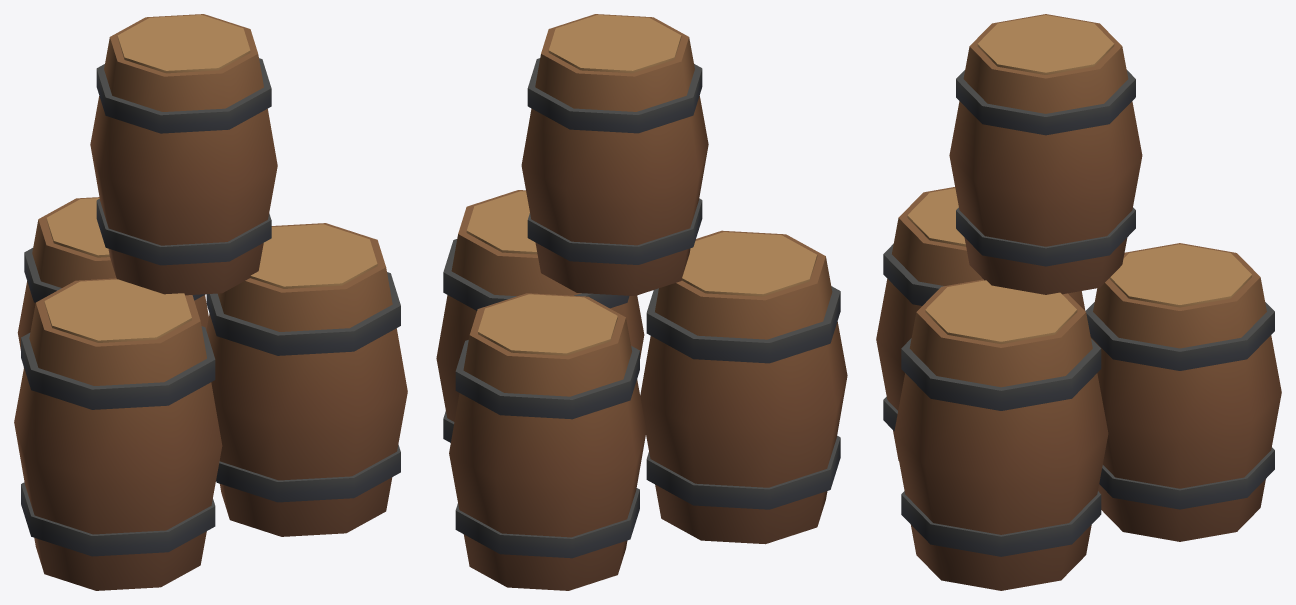
File: barrel_stack.glb
The picture shows the model from 3 angles, left to right: view 1: azimuth 30°, elevation 25°; view 2: azimuth 150°, elevation 25°; view 3: azimuth 270°, elevation 25°; orthographic projection.
Parts seen in each view (by area): view 1: barrel_stack; view 2: barrel_stack; view 3: barrel_stack.
Part boxes in pixels (bbox=[...]): barrel_stack: bbox=[14, 14, 407, 590]; barrel_stack: bbox=[436, 14, 847, 590]; barrel_stack: bbox=[876, 14, 1281, 590].
Bounding box in the file's own units: 4.9 × 5.73 × 4.54.
Materials: 1 (1 with a texture image).
